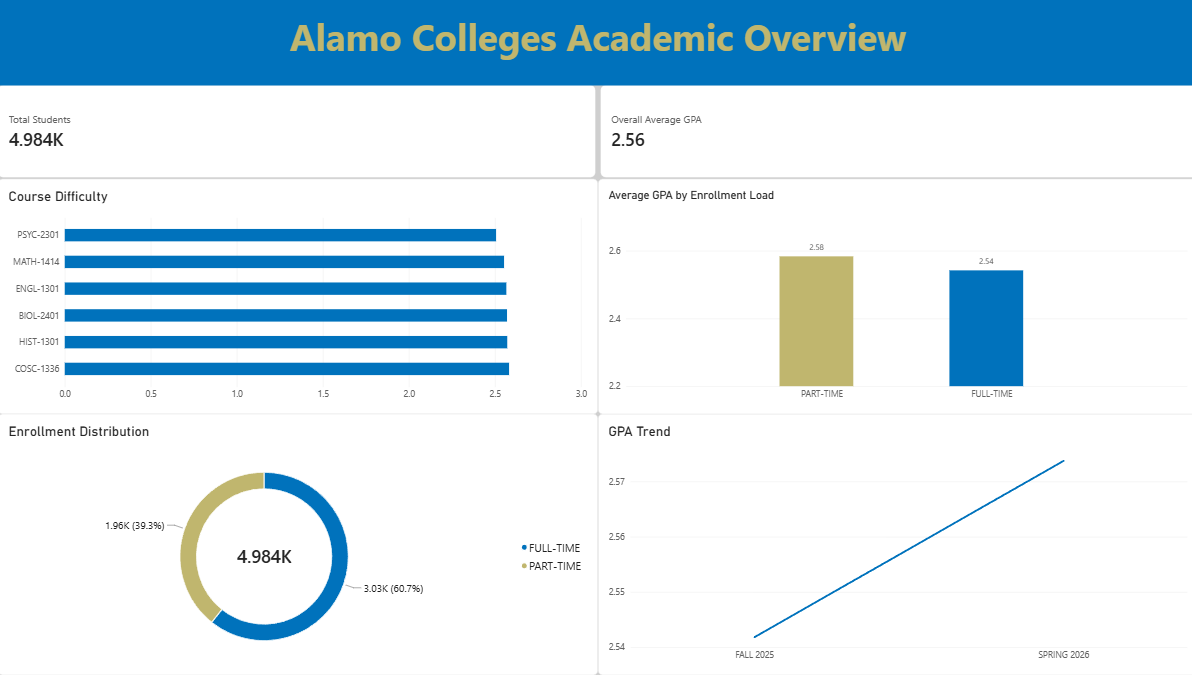

Layout of this report page (visuals, bound fields, positions):
{"tool":"powerbi","page":{"name":"Page 1","canvas":[1920,1080],"ordinal":0},"visuals":[{"type":"cardVisual","fields":{"Data":["Count(clean_alamo_enrollment.studentid)","Avg(clean_alamo_enrollment.GPA_Value)"]},"box":[0,136.7,1920,148.3],"z":0},{"type":"clusteredBarChart","title":"Course Difficulty","fields":{"Category":["clean_alamo_enrollment.course_id"],"Y":["Avg(clean_alamo_enrollment.GPA_Value)"]},"box":[0,285,960,376.7],"z":1000},{"type":"lineChart","title":"GPA Trend","fields":{"Category":["clean_alamo_enrollment.term"],"Y":["Avg(clean_alamo_enrollment.GPA_Value)"]},"box":[960,661.7,960,418.3],"z":2000},{"type":"donutChart","title":"Enrollment Distribution","fields":{"Category":["clean_alamo_enrollment.enrollment_status"],"Y":["Count(clean_alamo_enrollment.studentid)"]},"box":[0,661.7,960,418.3],"z":3000},{"type":"textbox","box":[0,0,1920,136.7],"z":3001},{"type":"columnChart","title":"Average GPA by Enrollment Load","fields":{"Category":["clean_alamo_enrollment.enrollment_status"],"Y":["Avg(clean_alamo_enrollment.GPA_Value)"]},"box":[960,285,960,376.7],"z":3002}]}

Visuals, with their boxes in screenshot pixels (x1, y1, x2, y2), scaled from the page's 1920x1080 canvas onto the 1192x675 screenshot:
cardVisual - Count(clean_alamo_enrollment.studentid) x Avg(clean_alamo_enrollment.GPA_Value): [0,85,1191,178]
"Course Difficulty" clusteredBarChart: [0,178,596,414]
"GPA Trend" lineChart: [596,414,1191,674]
"Enrollment Distribution" donutChart: [0,414,596,674]
textbox: [0,0,1191,85]
"Average GPA by Enrollment Load" columnChart: [596,178,1191,414]
